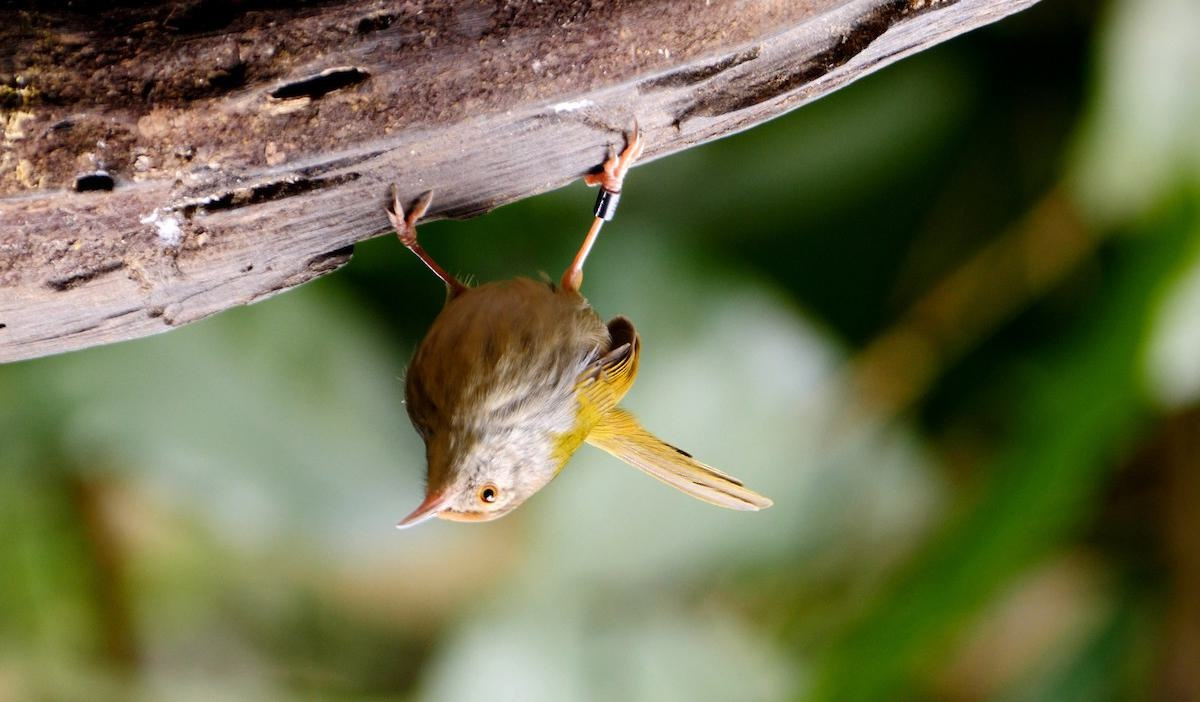tailorbird: (363, 153, 778, 584)
